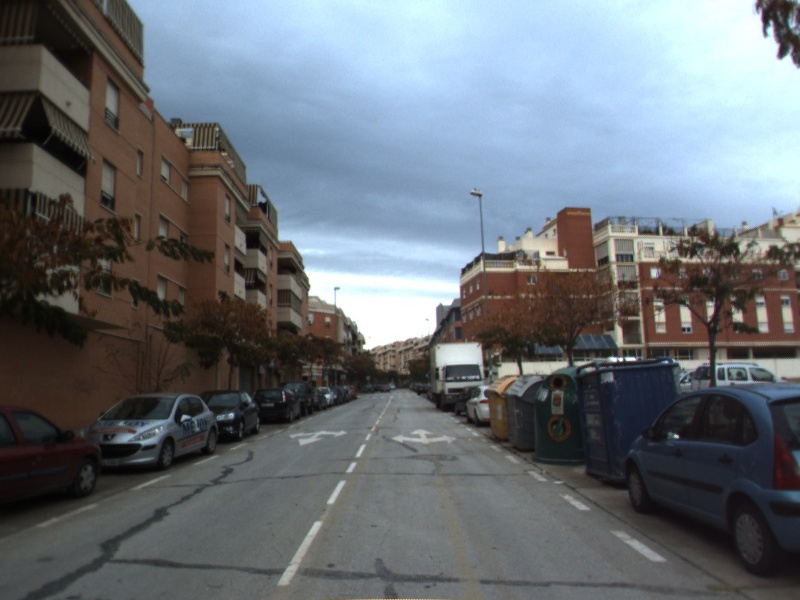STRAIGHT_LEFT_RIGHT: (389, 426, 459, 446)
